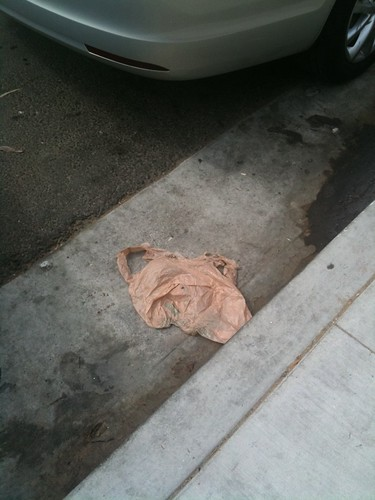street: (1, 29, 316, 413)
trash: (101, 208, 266, 368)
